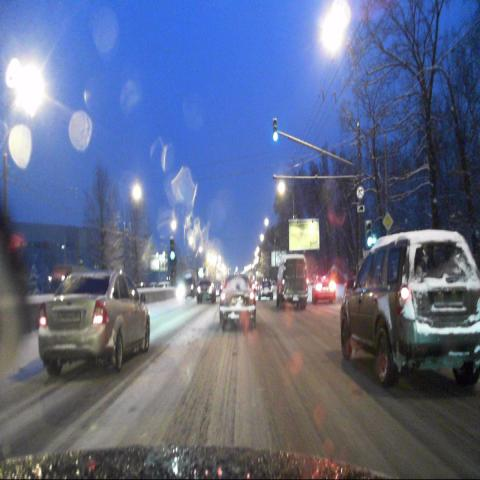2_1: (382, 211, 394, 232)
3_18: (355, 184, 365, 200)
